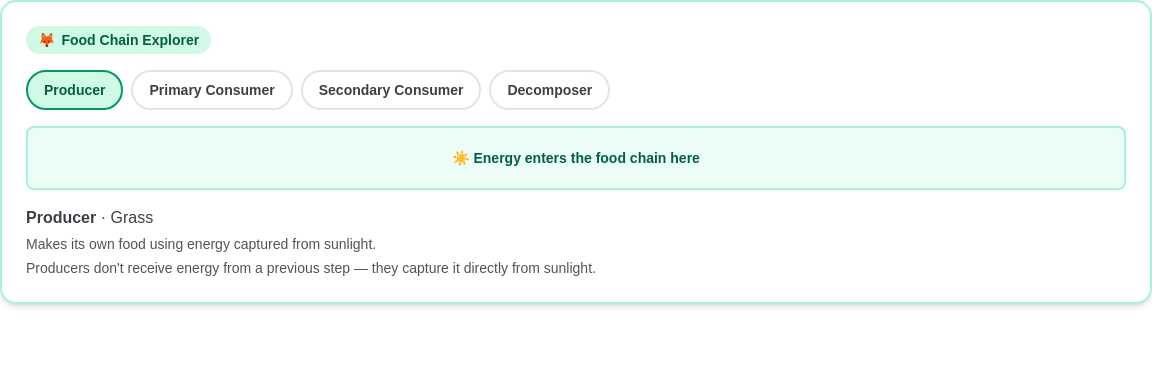
Test: FoodChainExplorer › clicking Secondary Consumer shows its role, example, and energy note
This screenshot has width=1152, height=385.
Click the button "Secondary Consumer" at [391, 90], box [301,70,482,110]
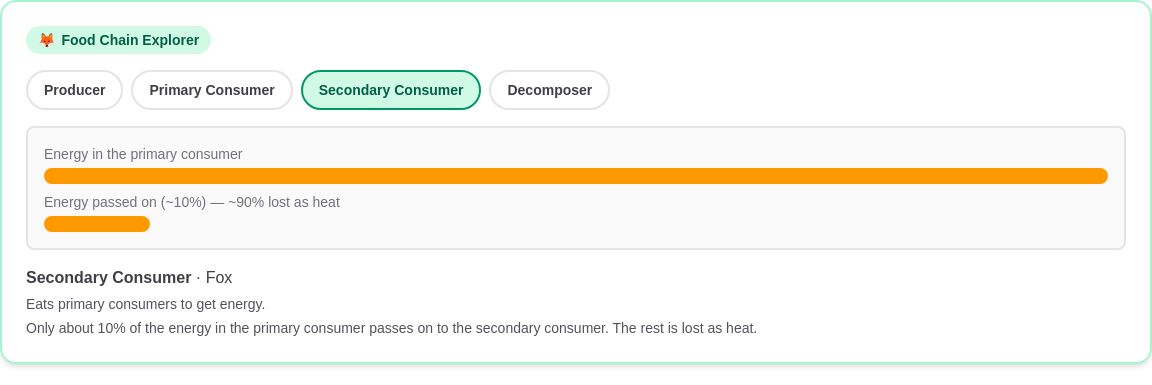
Expected: the text with test id "level-name" reads "Secondary Consumer", [26,269,191,286]
Expected: the text with test id "level-example" reads "Fox", [206,269,232,286]
Expected: the text with test id "energy-note" shows "Only about 10% of the energy in the primary consumer passes on to the secondary consumer", [26,320,757,336]
